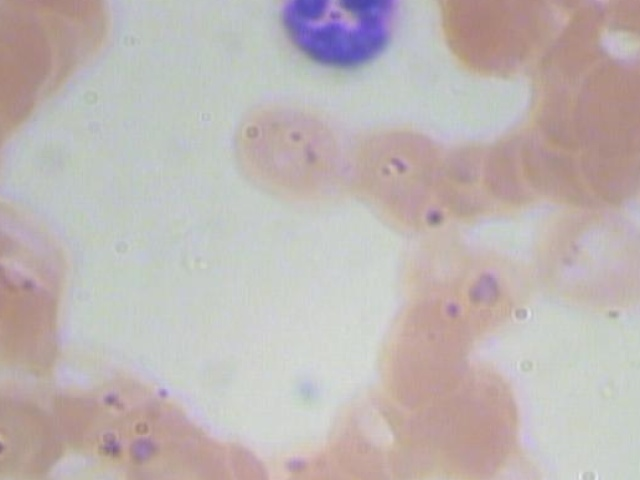RBC: (395, 228, 533, 343), (222, 94, 359, 209), (331, 114, 468, 229), (357, 287, 494, 402), (402, 364, 539, 479), (526, 197, 640, 312), (423, 0, 560, 82), (562, 40, 640, 155)
WBC: (253, 0, 418, 70)
